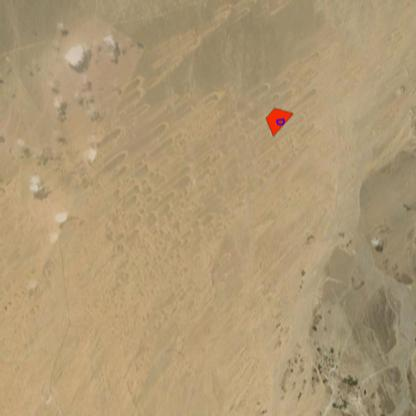D: (275, 117, 286, 128)
trapezium: (265, 107, 294, 137)
